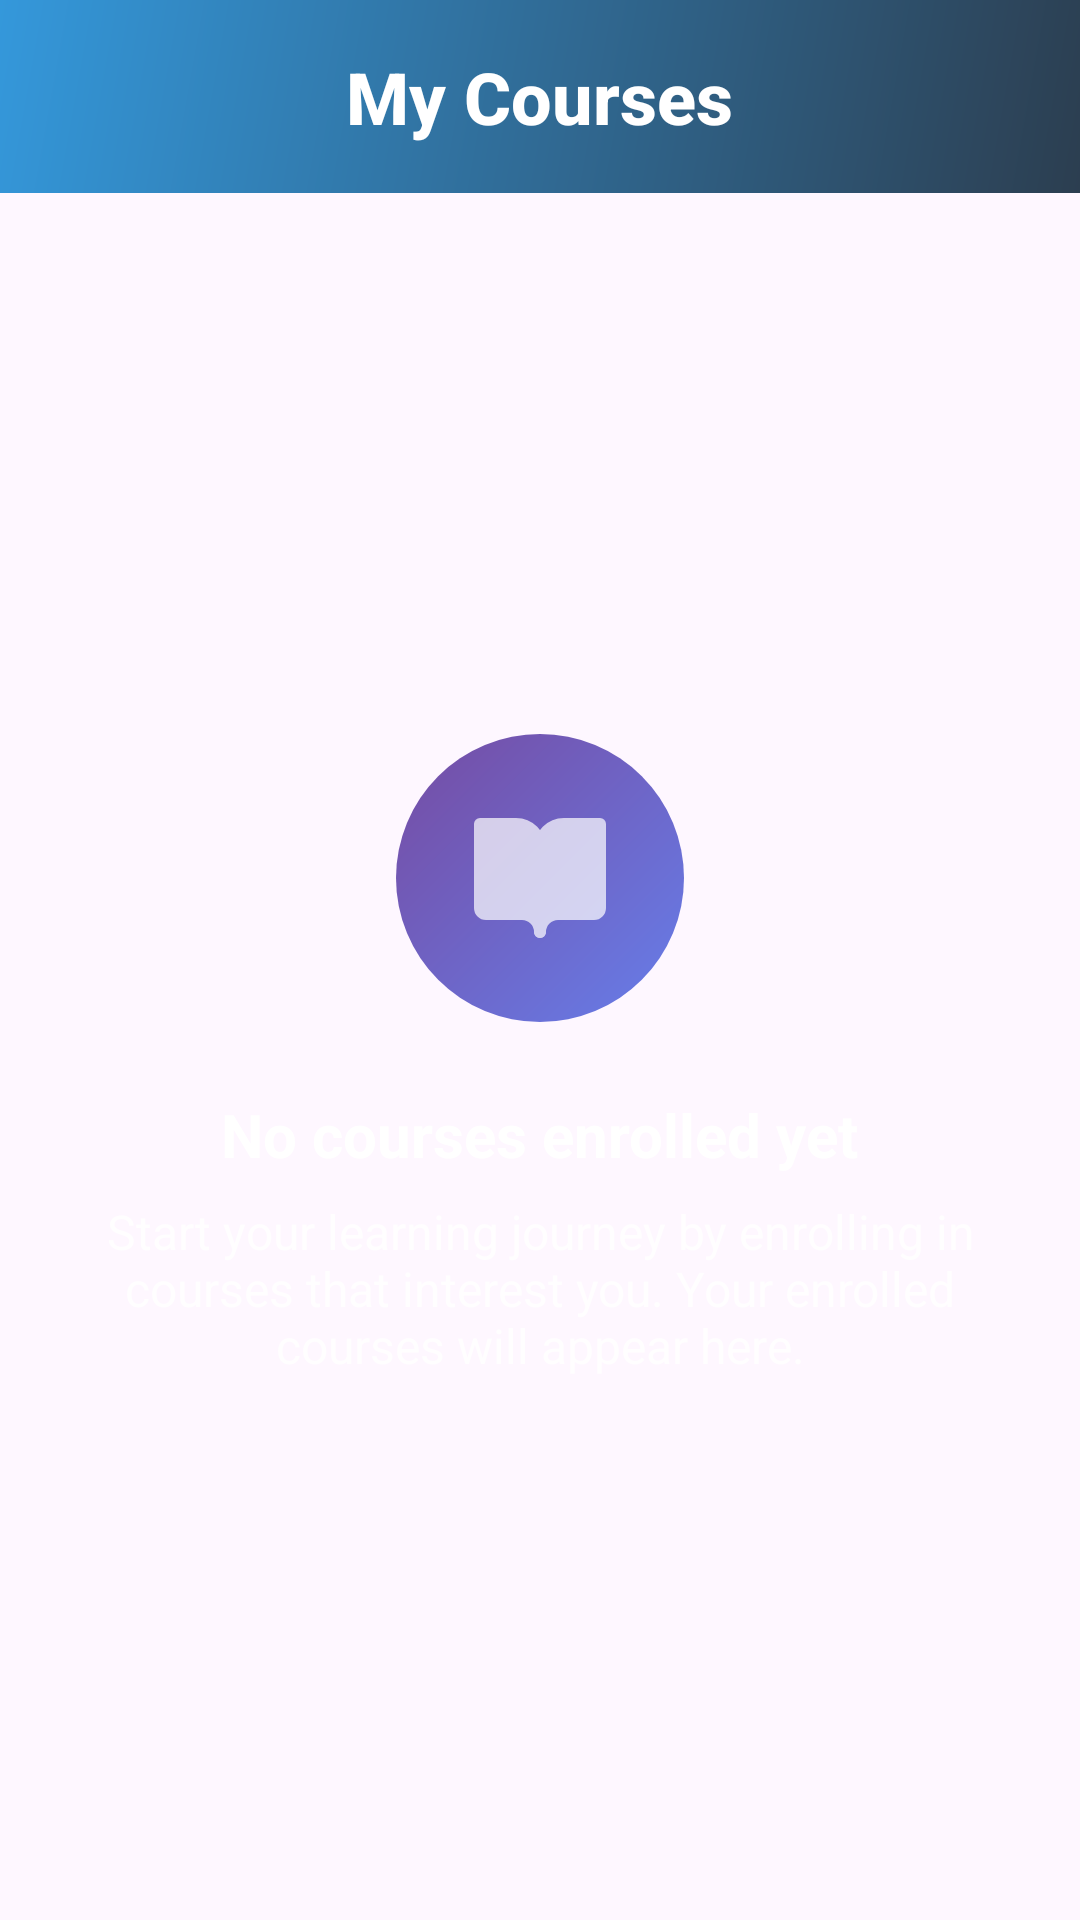

Locate icon controls on the screen. Image size 1080w x 1920h, boxes as (x1, y1, x2, y2).
book open: (396, 734, 684, 1022)
